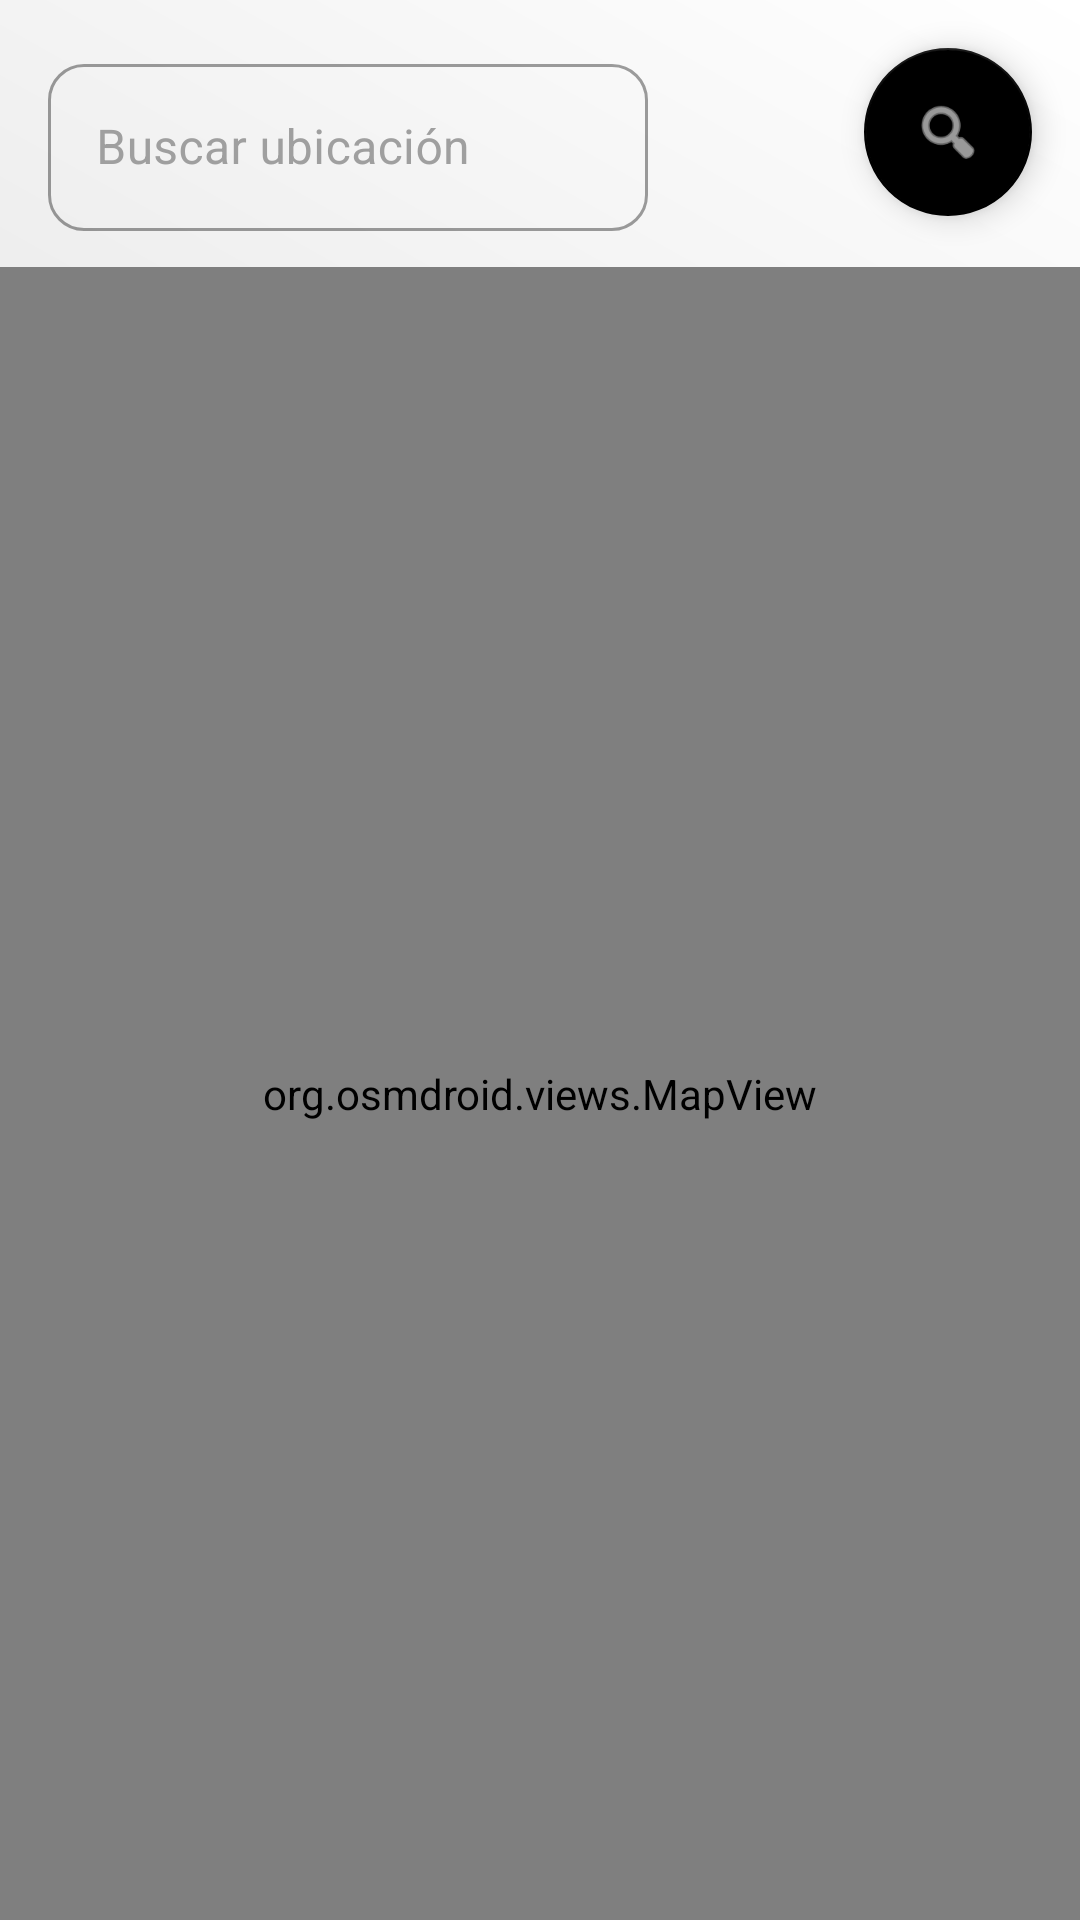

Screen size 1080*1920. Icon name, then its center in pixels as [x,y]:
Buscar: [948,132]
